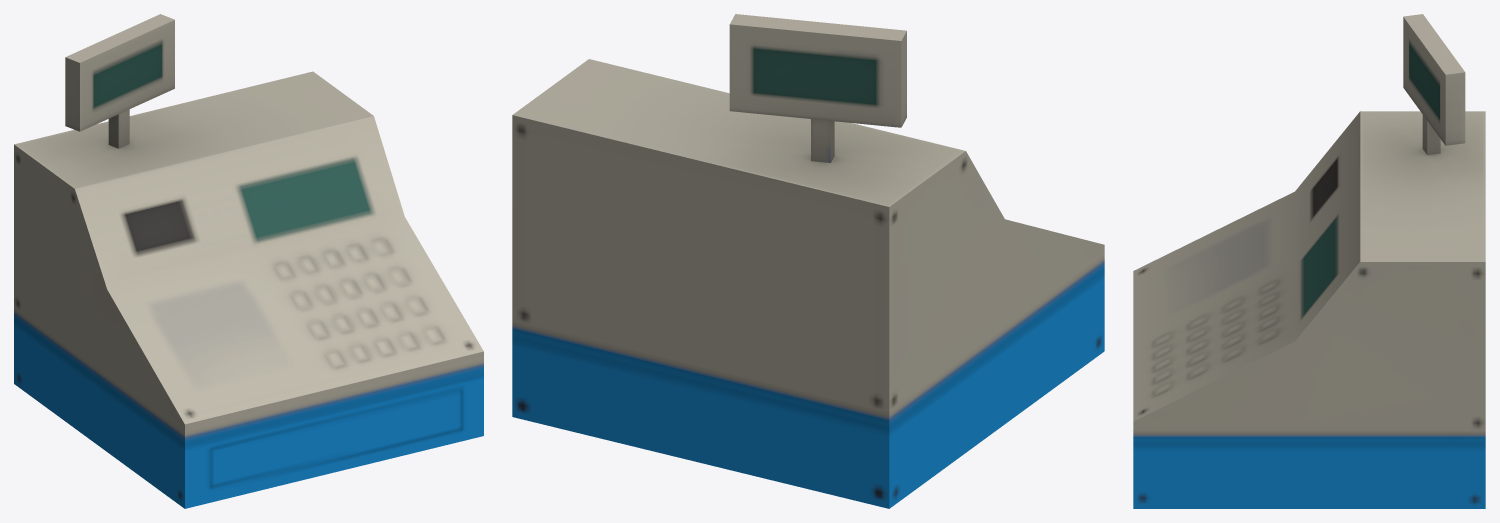
File: sb_obj_ModernCity057_register.fbx
3 views of the same model, side by side, from view 1: azimuth 30°, elevation 25°; view 2: azimuth 150°, elevation 25°; view 3: azimuth 270°, elevation 25° (orthographic). The views are drawn at different scales.
Visible parts, largest first — view 1: sb_obj_ModernCity057_register; view 2: sb_obj_ModernCity057_register; view 3: sb_obj_ModernCity057_register.
Part boxes in pixels (box(x1,y1,x2,y2)): sb_obj_ModernCity057_register: box(14, 14, 483, 508); sb_obj_ModernCity057_register: box(512, 14, 1104, 508); sb_obj_ModernCity057_register: box(1133, 14, 1485, 508).
Bounding box in the file's own units: 0.4291 × 0.4714 × 0.4245.
Materials: 1 (1 with a texture image).
